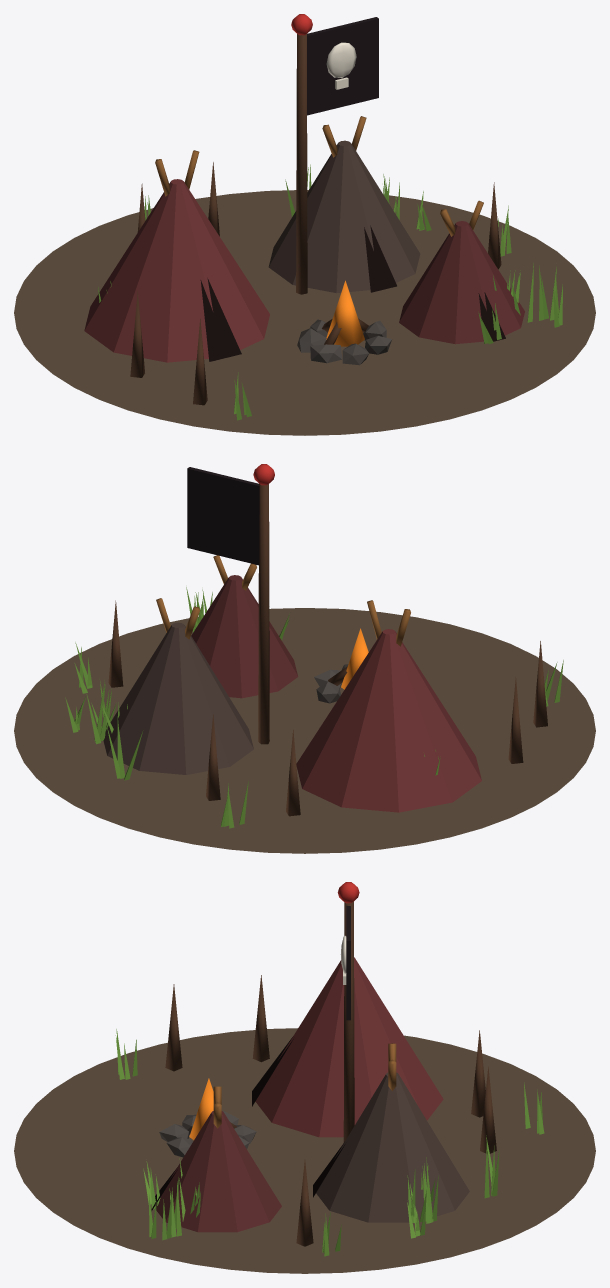
File: improvement_barbarian_camp.fbx
3 renders of one model, top to bottom at view 1: azimuth 30°, elevation 25°; view 2: azimuth 150°, elevation 25°; view 3: azimuth 270°, elevation 25°, orthographic.
Visible parts, largest first — view 1: improvement_barbarian_camp_gpatch#5a4a3ar_00, improvement_barbarian_camp_tent#6a3030_02, improvement_barbarian_camp_tent#4a3a34_05, improvement_barbarian_camp_tent#5a2a2a_06, improvement_barbarian_camp_wood#4a3020_08, improvement_barbarian_camp_bflag_11, improvement_barbarian_camp_tentdoor#120808_03, improvement_barbarian_camp_leaf#6a9a3a.019_01, improvement_barbarian_camp_rock#4a4440_07, improvement_barbarian_camp_wood#8a5a2c.015_04, improvement_barbarian_camp_fire.002_09, improvement_barbarian_camp_skull_12; view 2: improvement_barbarian_camp_gpatch#5a4a3ar_00, improvement_barbarian_camp_tent#6a3030_02, improvement_barbarian_camp_tent#4a3a34_05, improvement_barbarian_camp_tent#5a2a2a_06, improvement_barbarian_camp_wood#4a3020_08, improvement_barbarian_camp_bflag_11, improvement_barbarian_camp_leaf#6a9a3a.019_01, improvement_barbarian_camp_wood#8a5a2c.015_04, improvement_barbarian_camp_rock#4a4440_07, improvement_barbarian_camp_fire.002_09; view 3: improvement_barbarian_camp_gpatch#5a4a3ar_00, improvement_barbarian_camp_tent#6a3030_02, improvement_barbarian_camp_tent#4a3a34_05, improvement_barbarian_camp_tent#5a2a2a_06, improvement_barbarian_camp_wood#4a3020_08, improvement_barbarian_camp_leaf#6a9a3a.019_01, improvement_barbarian_camp_rock#4a4440_07, improvement_barbarian_camp_tentdoor#120808_03, improvement_barbarian_camp_wood#8a5a2c.015_04, improvement_barbarian_camp_fire.002_09, improvement_barbarian_camp_bflag_11.
Boxes of the visible parts, <box> form: improvement_barbarian_camp_gpatch#5a4a3ar_00: <box>14,190,595,435</box>; improvement_barbarian_camp_tent#6a3030_02: <box>84,179,269,362</box>; improvement_barbarian_camp_tent#4a3a34_05: <box>268,140,420,293</box>; improvement_barbarian_camp_tent#5a2a2a_06: <box>399,221,524,344</box>; improvement_barbarian_camp_wood#4a3020_08: <box>130,34,501,405</box>; improvement_barbarian_camp_bflag_11: <box>307,17,378,115</box>; improvement_barbarian_camp_tentdoor#120808_03: <box>200,225,505,361</box>; improvement_barbarian_camp_leaf#6a9a3a.019_01: <box>98,164,562,420</box>; improvement_barbarian_camp_rock#4a4440_07: <box>297,319,392,365</box>; improvement_barbarian_camp_wood#8a5a2c.015_04: <box>155,116,483,236</box>; improvement_barbarian_camp_fire.002_09: <box>326,280,364,346</box>; improvement_barbarian_camp_skull_12: <box>326,42,356,89</box>; improvement_barbarian_camp_gpatch#5a4a3ar_00: <box>14,608,595,853</box>; improvement_barbarian_camp_tent#6a3030_02: <box>296,629,481,812</box>; improvement_barbarian_camp_tent#4a3a34_05: <box>103,622,253,774</box>; improvement_barbarian_camp_tent#5a2a2a_06: <box>191,575,298,698</box>; improvement_barbarian_camp_wood#4a3020_08: <box>108,483,547,816</box>; improvement_barbarian_camp_bflag_11: <box>187,467,259,565</box>; improvement_barbarian_camp_leaf#6a9a3a.019_01: <box>65,587,563,828</box>; improvement_barbarian_camp_wood#8a5a2c.015_04: <box>156,555,410,646</box>; improvement_barbarian_camp_rock#4a4440_07: <box>314,664,348,703</box>; improvement_barbarian_camp_fire.002_09: <box>341,628,368,689</box>; improvement_barbarian_camp_gpatch#5a4a3ar_00: <box>14,1028,595,1273</box>; improvement_barbarian_camp_tent#6a3030_02: <box>255,957,443,1137</box>; improvement_barbarian_camp_tent#4a3a34_05: <box>316,1072,469,1222</box>; improvement_barbarian_camp_tent#5a2a2a_06: <box>156,1111,281,1232</box>; improvement_barbarian_camp_wood#4a3020_08: <box>165,901,496,1246</box>; improvement_barbarian_camp_leaf#6a9a3a.019_01: <box>115,1029,544,1256</box>; improvement_barbarian_camp_rock#4a4440_07: <box>159,1111,256,1157</box>; improvement_barbarian_camp_tentdoor#120808_03: <box>151,1037,345,1210</box>; improvement_barbarian_camp_wood#8a5a2c.015_04: <box>213,1043,396,1128</box>; improvement_barbarian_camp_fire.002_09: <box>189,1078,213,1139</box>; improvement_barbarian_camp_bflag_11: <box>346,905,350,1020</box>.
Size of the model in its own units: 133 by 70.85 by 133.
